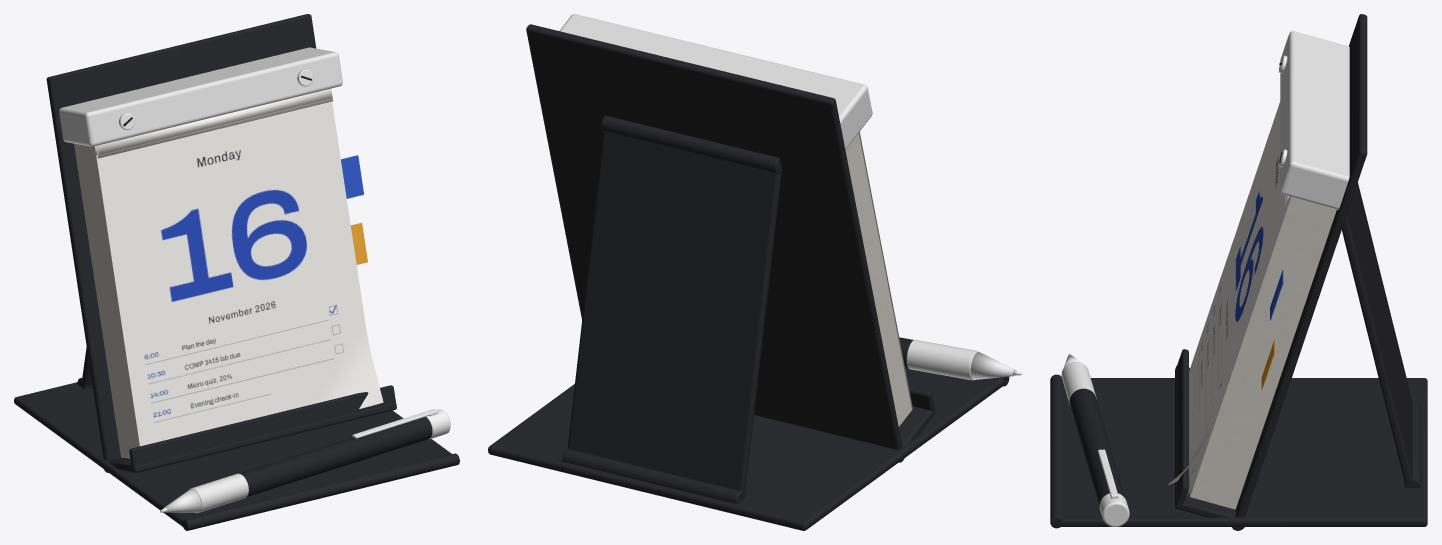
Rendered from planner.glb.
3 renders of one model, left to right at view 1: azimuth 30°, elevation 25°; view 2: azimuth 150°, elevation 25°; view 3: azimuth 270°, elevation 25°, orthographic. The views are drawn at different scales.
Parts seen in each view (by area): view 1: sheet_top, planner_baked, planner_flat; view 2: planner_baked, planner_flat; view 3: planner_baked, sheet_top, planner_flat, sheet_next.
Part boxes in pixels (box(x1,y1,x2,y2)): sheet_top: box(97, 101, 383, 446); planner_baked: box(14, 14, 459, 530); planner_flat: box(119, 69, 450, 512); planner_baked: box(488, 14, 1009, 530); planner_flat: box(899, 337, 1021, 379); planner_baked: box(1050, 14, 1427, 530); sheet_top: box(1168, 101, 1289, 484); planner_flat: box(1064, 55, 1287, 526); sheet_next: box(1189, 197, 1290, 478).
Bounding box in the file's own units: 0.1305 × 0.1438 × 0.1292.
Materials: 8 (2 with a texture image).
